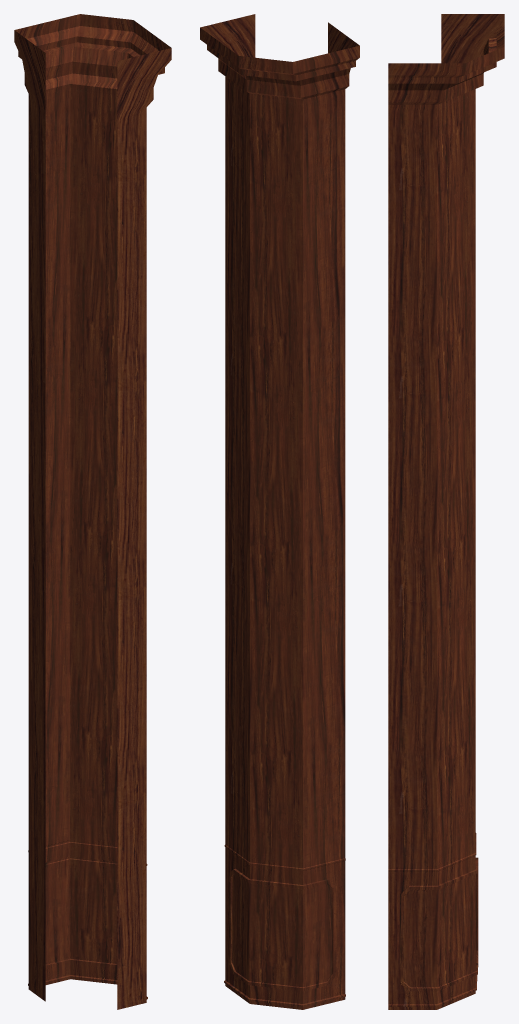
File: Tiang_90_Derajat_2.fbx
The picture shows the model from 3 angles, left to right: view 1: azimuth 30°, elevation 25°; view 2: azimuth 210°, elevation 25°; view 3: azimuth 270°, elevation 25°; orthographic projection.
Parts seen in each view (by area): view 1: Tiang 90 Derajat 2; view 2: Tiang 90 Derajat 2; view 3: Tiang 90 Derajat 2.
Boxes of the visible parts, x1,y1,x2,y2 form: Tiang 90 Derajat 2: (14, 14, 171, 1009); Tiang 90 Derajat 2: (200, 14, 359, 1009); Tiang 90 Derajat 2: (388, 14, 504, 1009).
Size of the model in its own units: 44 by 400 by 44.
1 material, 1 textured.
